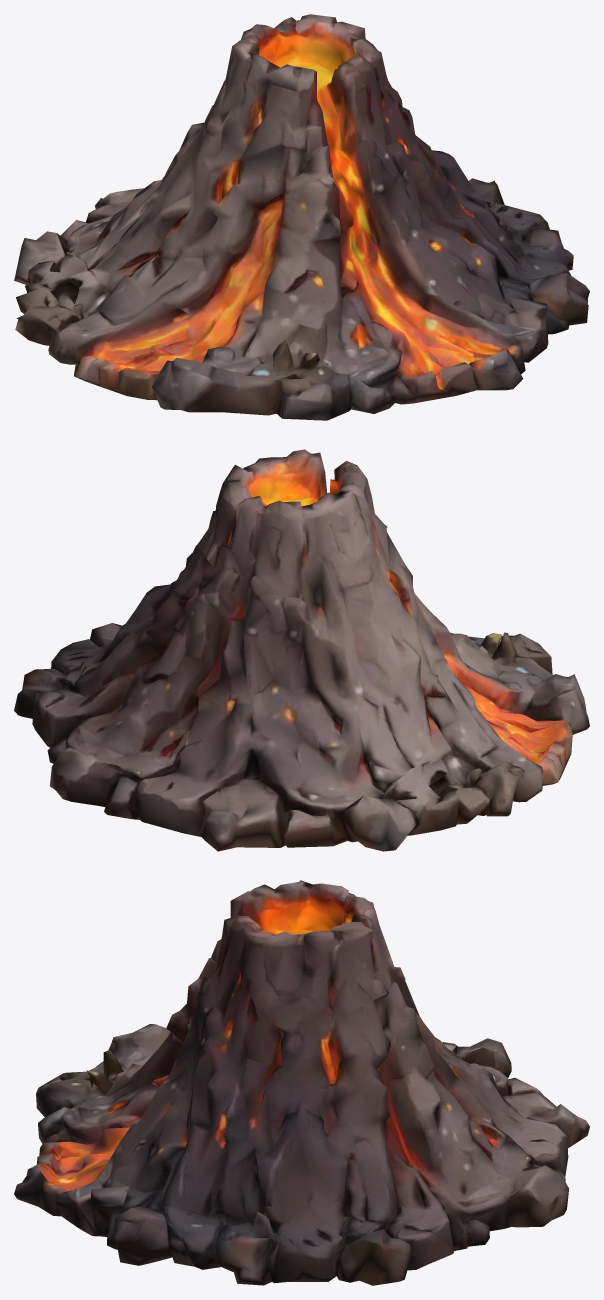
The model's file is volcano.glb.
3 renders of one model, top to bottom at view 1: azimuth 30°, elevation 25°; view 2: azimuth 150°, elevation 25°; view 3: azimuth 270°, elevation 25°, orthographic.
Visible parts, largest first — view 1: tripo_node_c026b5e9-ec8e-4380-b8df-067b231d0483; view 2: tripo_node_c026b5e9-ec8e-4380-b8df-067b231d0483; view 3: tripo_node_c026b5e9-ec8e-4380-b8df-067b231d0483.
Boxes of the visible parts, box(x1,y1,x2,y2) form: tripo_node_c026b5e9-ec8e-4380-b8df-067b231d0483: box(14, 14, 589, 420); tripo_node_c026b5e9-ec8e-4380-b8df-067b231d0483: box(14, 449, 589, 851); tripo_node_c026b5e9-ec8e-4380-b8df-067b231d0483: box(14, 880, 589, 1285).
Size of the model in its own units: 0.9984 by 0.5075 by 1.
Materials: 1 (1 with a texture image).
